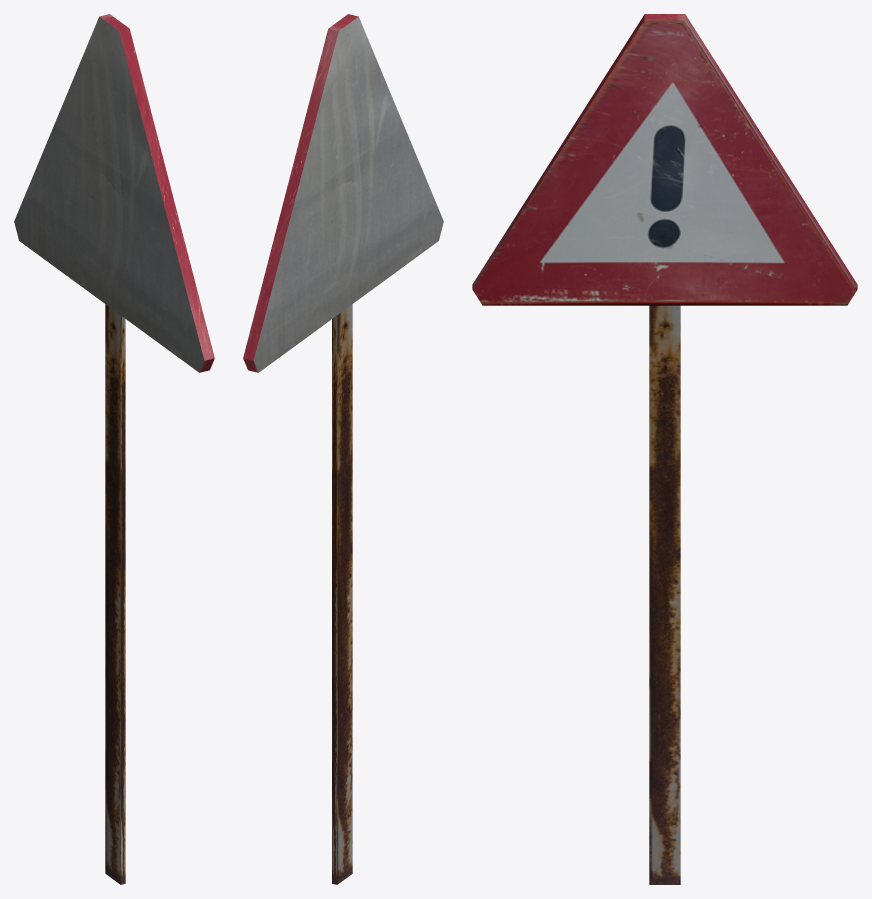
File: caution_sign.fbx
3 renders of one model, left to right at view 1: azimuth 30°, elevation 25°; view 2: azimuth 150°, elevation 25°; view 3: azimuth 270°, elevation 25°, orthographic.
Parts seen in each view (by area): view 1: caution_sign, post; view 2: caution_sign, post; view 3: caution_sign, post.
Boxes of the visible parts, box(x1,y1,x2,y2) form: caution_sign: box(14, 14, 214, 372); post: box(105, 304, 125, 884); caution_sign: box(243, 14, 443, 372); post: box(332, 304, 352, 884); caution_sign: box(472, 14, 857, 305); post: box(649, 305, 680, 884).
Size of the model in its own units: 0.0937 by 7.32 by 2.95.
